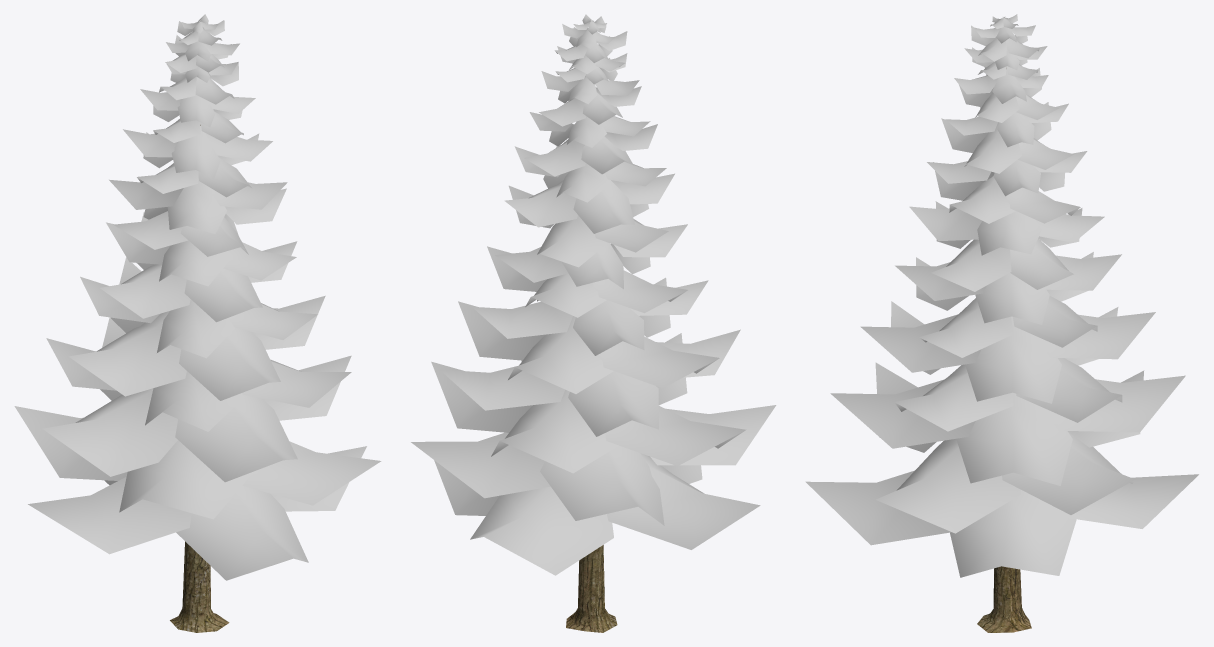
File: pine_tree_a.FBX
The picture shows the model from 3 angles, left to right: view 1: azimuth 30°, elevation 25°; view 2: azimuth 150°, elevation 25°; view 3: azimuth 270°, elevation 25°; orthographic projection.
Visible parts, largest first — view 1: pine_a; view 2: pine_a; view 3: pine_a.
Boxes of the visible parts, x1,y1,x2,y2 form: pine_a: (14, 14, 381, 632); pine_a: (411, 14, 776, 632); pine_a: (805, 14, 1198, 632).
Size of the model in its own units: 4.87 by 4.9 by 8.31.
